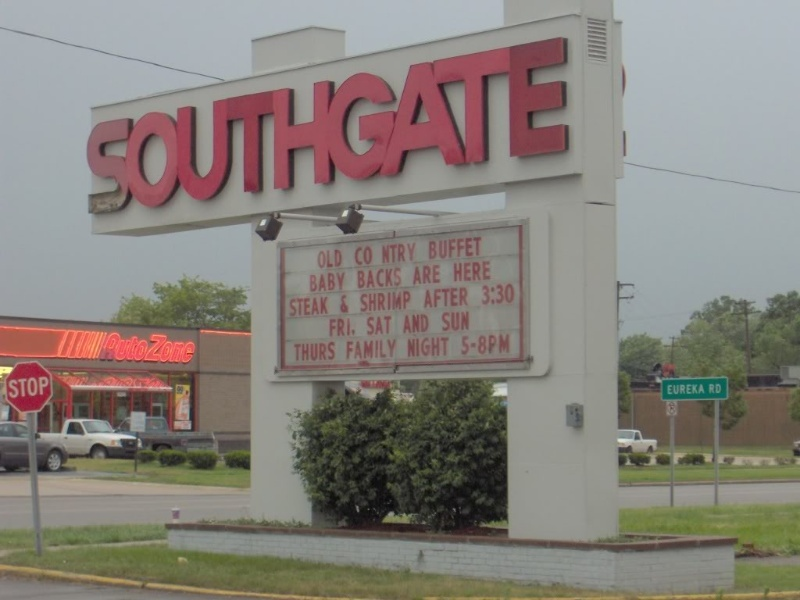text: (97, 36, 112, 216), (113, 36, 128, 216), (129, 36, 144, 216), (145, 36, 160, 216), (161, 36, 176, 216), (177, 36, 192, 216), (193, 36, 208, 216), (209, 36, 224, 216), (225, 36, 240, 216), (241, 36, 256, 216), (257, 36, 272, 216), (273, 36, 288, 216), (289, 36, 304, 216), (305, 36, 320, 216), (321, 36, 336, 216), (337, 36, 352, 216), (353, 36, 368, 216), (369, 36, 384, 216), (385, 36, 400, 216), (401, 36, 416, 216), (417, 36, 432, 216), (433, 36, 448, 216), (449, 36, 464, 216), (465, 36, 480, 216), (481, 36, 496, 216), (497, 36, 512, 216), (513, 36, 528, 216), (529, 36, 544, 216), (545, 36, 560, 216), (86, 36, 96, 216), (561, 36, 570, 216), (113, 332, 128, 364), (129, 332, 144, 364), (145, 332, 160, 364), (161, 332, 176, 364), (177, 332, 192, 364), (33, 376, 49, 399), (433, 236, 448, 260), (449, 236, 464, 260), (465, 236, 480, 260), (385, 267, 401, 289), (433, 286, 448, 309), (449, 286, 464, 309), (17, 376, 32, 399), (369, 267, 384, 289), (417, 264, 432, 286), (465, 261, 480, 283), (417, 336, 432, 358), (433, 336, 448, 358), (465, 333, 480, 355), (481, 333, 496, 355), (321, 248, 336, 269), (321, 272, 336, 293), (305, 296, 320, 317), (369, 290, 384, 311), (385, 290, 400, 311), (497, 283, 512, 304), (305, 341, 320, 362), (321, 341, 336, 362), (497, 333, 511, 355), (385, 243, 400, 263), (337, 318, 352, 338), (369, 315, 384, 335), (449, 311, 464, 331), (353, 339, 368, 359), (369, 339, 384, 359), (290, 296, 304, 317), (401, 243, 415, 263), (483, 283, 496, 304), (355, 246, 368, 265), (403, 314, 416, 333), (453, 261, 464, 283), (481, 261, 492, 283), (340, 294, 352, 314), (309, 272, 320, 293), (293, 341, 304, 362), (417, 314, 429, 333), (358, 267, 368, 289), (385, 339, 396, 359), (401, 290, 411, 311), (423, 286, 432, 309), (337, 272, 346, 293), (8, 376, 16, 399), (408, 336, 416, 358), (321, 296, 329, 317), (360, 290, 368, 311), (385, 315, 393, 335), (193, 332, 198, 364), (433, 264, 440, 286), (673, 384, 688, 394), (689, 384, 704, 394), (97, 376, 112, 386), (113, 376, 128, 386), (129, 376, 144, 386), (145, 376, 160, 386), (329, 318, 336, 338), (441, 311, 448, 331), (337, 248, 343, 269), (709, 383, 720, 394), (177, 386, 192, 394), (347, 339, 352, 359), (465, 311, 469, 331), (369, 246, 373, 265), (429, 236, 432, 260), (465, 286, 468, 309), (461, 333, 464, 355), (110, 332, 112, 364), (317, 248, 320, 269), (353, 318, 356, 338), (161, 376, 166, 386), (513, 283, 515, 304), (382, 243, 384, 263), (668, 384, 672, 394), (481, 236, 482, 260), (415, 264, 416, 286), (449, 336, 450, 358), (367, 315, 368, 335), (721, 383, 722, 394)
